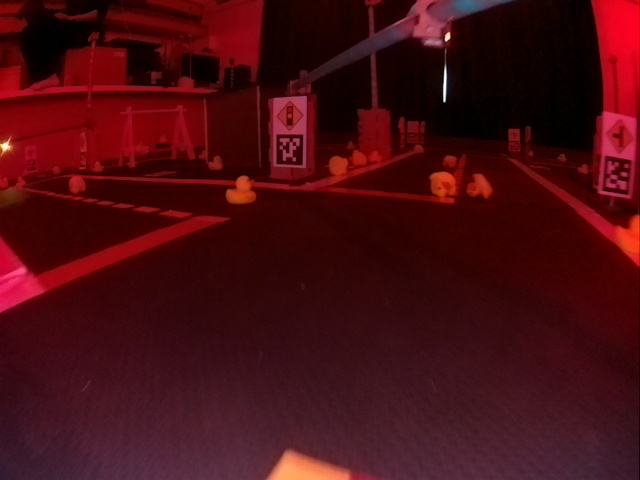Duckie: (226, 176, 256, 204), (617, 215, 639, 252), (430, 171, 454, 198), (468, 174, 492, 199), (67, 176, 86, 193), (330, 160, 345, 174)
Intersection sign: (605, 116, 634, 154)
QR code: (601, 157, 630, 196), (275, 134, 305, 167)
Signal sign: (278, 99, 304, 129)
